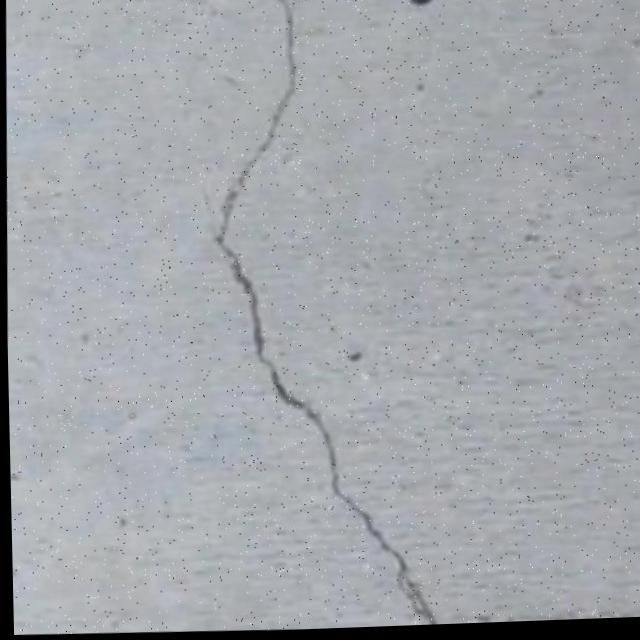Crack: (185, 0, 457, 635)
